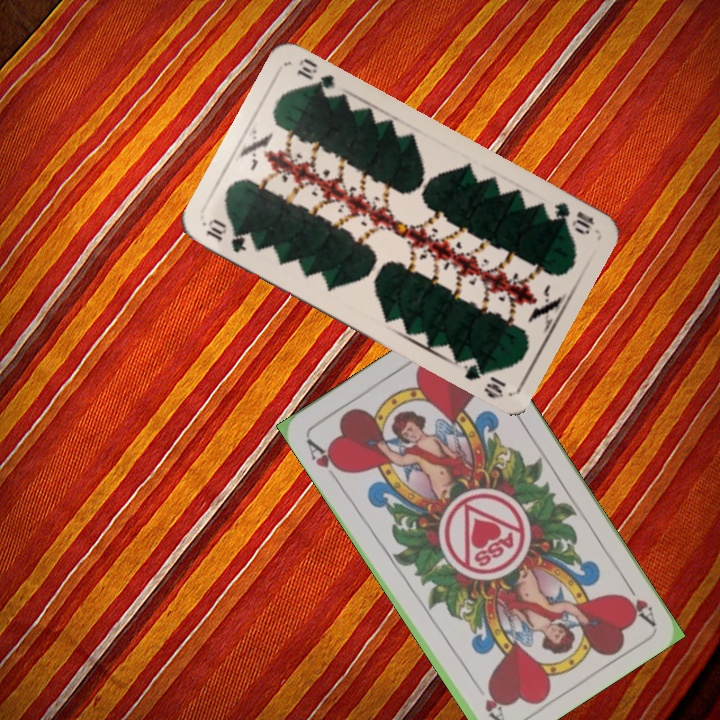G10: (202, 215, 249, 256), (549, 198, 597, 238)
HA: (302, 433, 346, 485), (617, 574, 658, 627)
